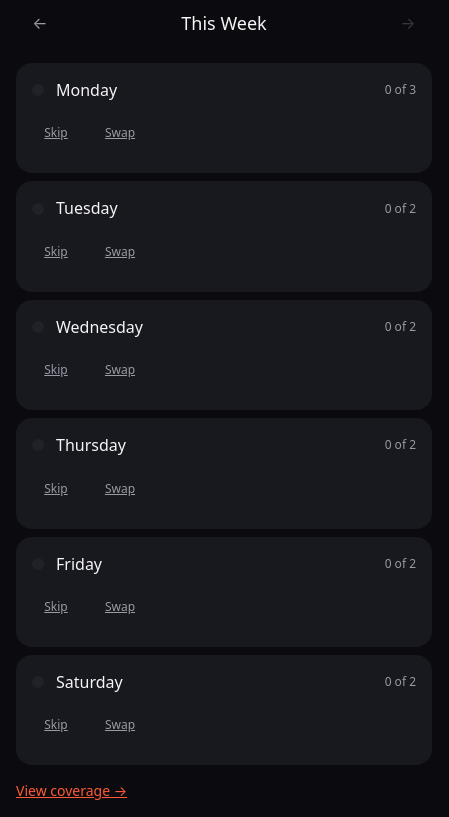
it: Week Plan screen › Skip on a row marks it Skipped, and Unskip clears it
The image size is (449, 817).
Expected: the text "Monday" is shown, x1=32 y1=79 x2=117 y2=101
Click the button "Skip" below "Monday": (56, 133) x1=32 y1=109 x2=80 y2=157
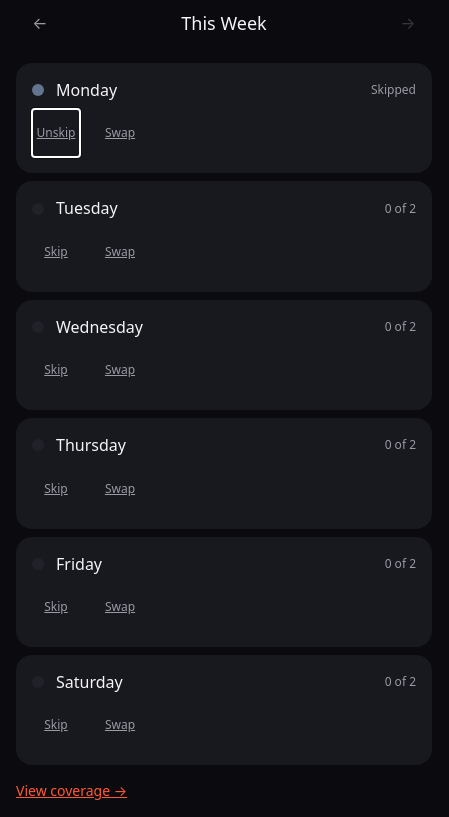
Result: the text "Skipped" is shown at x1=371 y1=82 x2=416 y2=98
Result: the button "Unskip" is shown
Click the button "Unskip": (56, 133) x1=32 y1=109 x2=80 y2=157
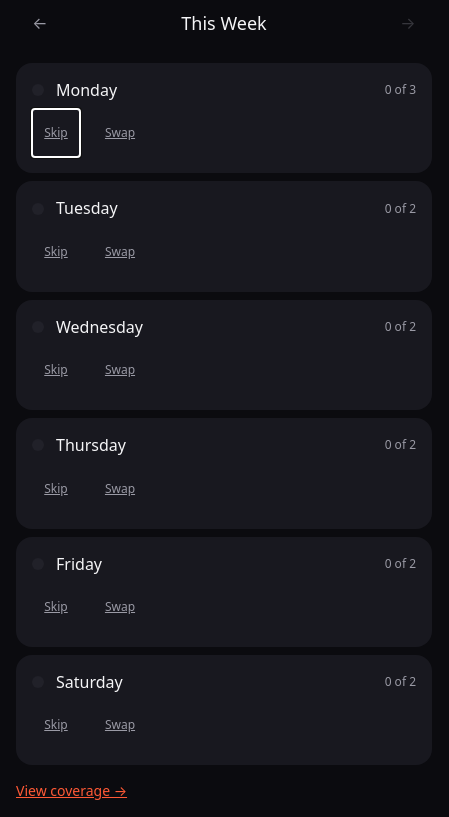
Result: the text "0 of 3" is shown at x1=385 y1=82 x2=416 y2=98
